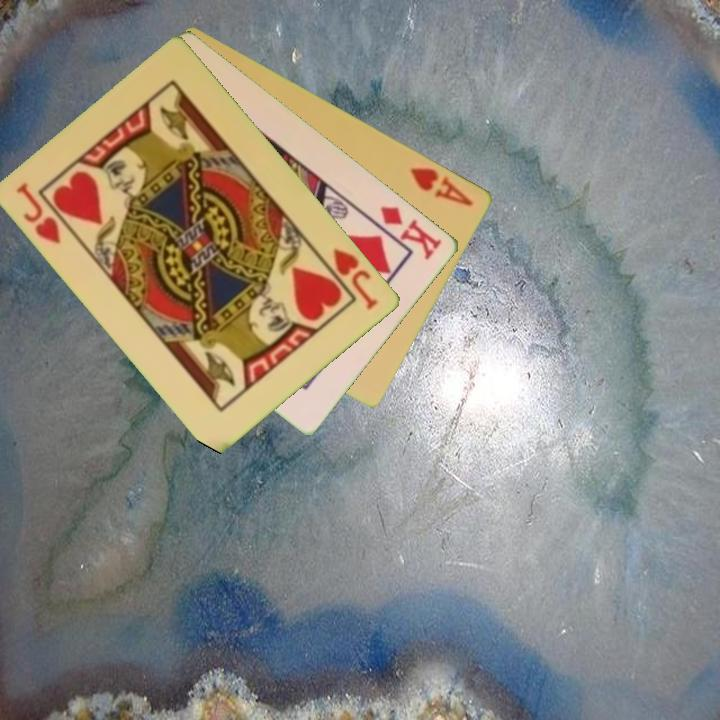Ah: (407, 163, 476, 209)
Jh: (315, 244, 382, 313), (13, 178, 65, 247)
Kd: (366, 202, 446, 263)
